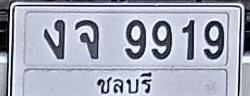1: (182, 19, 194, 60)
9: (125, 19, 146, 59), (152, 20, 172, 59), (204, 20, 224, 59)
A07: (43, 19, 65, 59)
A08: (75, 19, 99, 59)
CBI: (93, 71, 155, 96)
